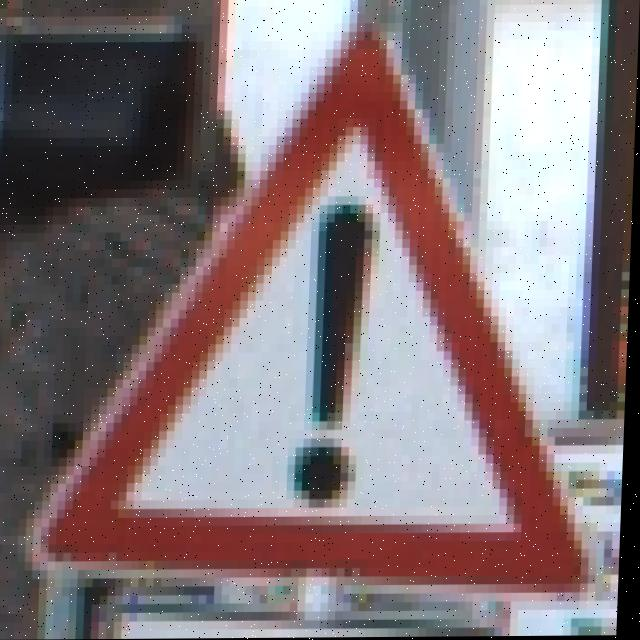warning: (87, 60, 584, 599)
